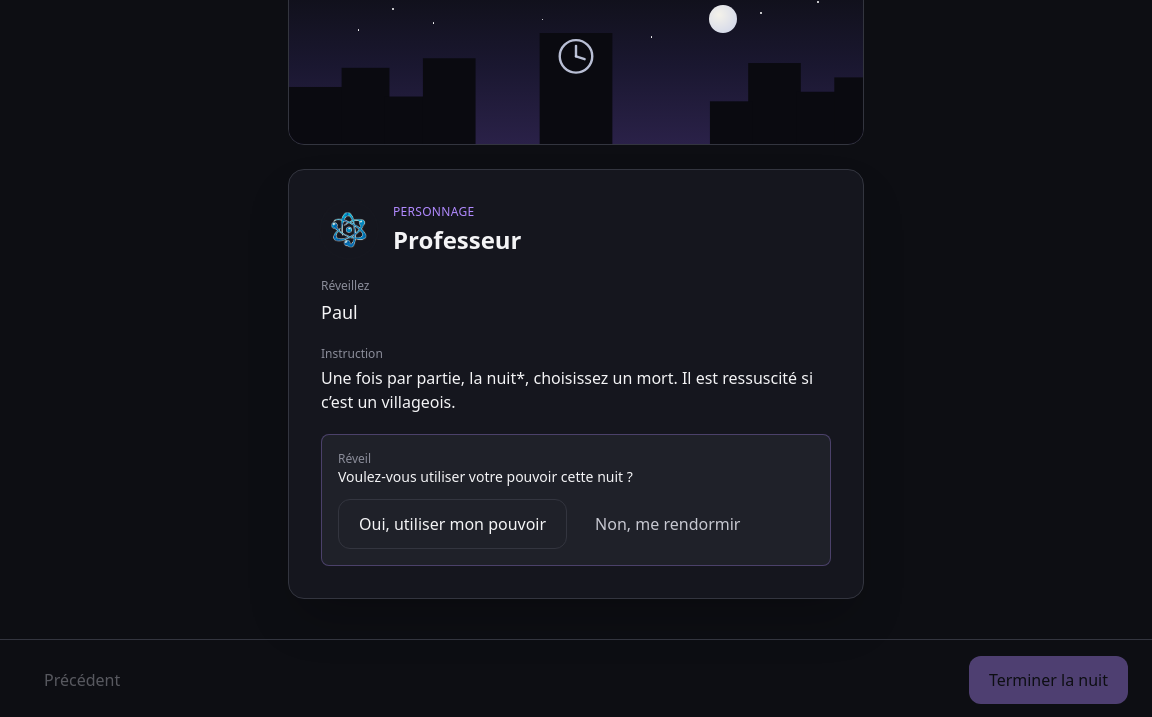
Test case: NightAssistantScreen — Bad Moon Rising : Professeur › ne redemande plus de réveiller le Professeur une fois son pouvoir unique utilisé
This screenshot has width=1152, height=717.
(page scrolled)
Click the button "Oui, utiliser mon pouvoir".
click(453, 524)  # box left=338, top=499, right=567, bottom=549
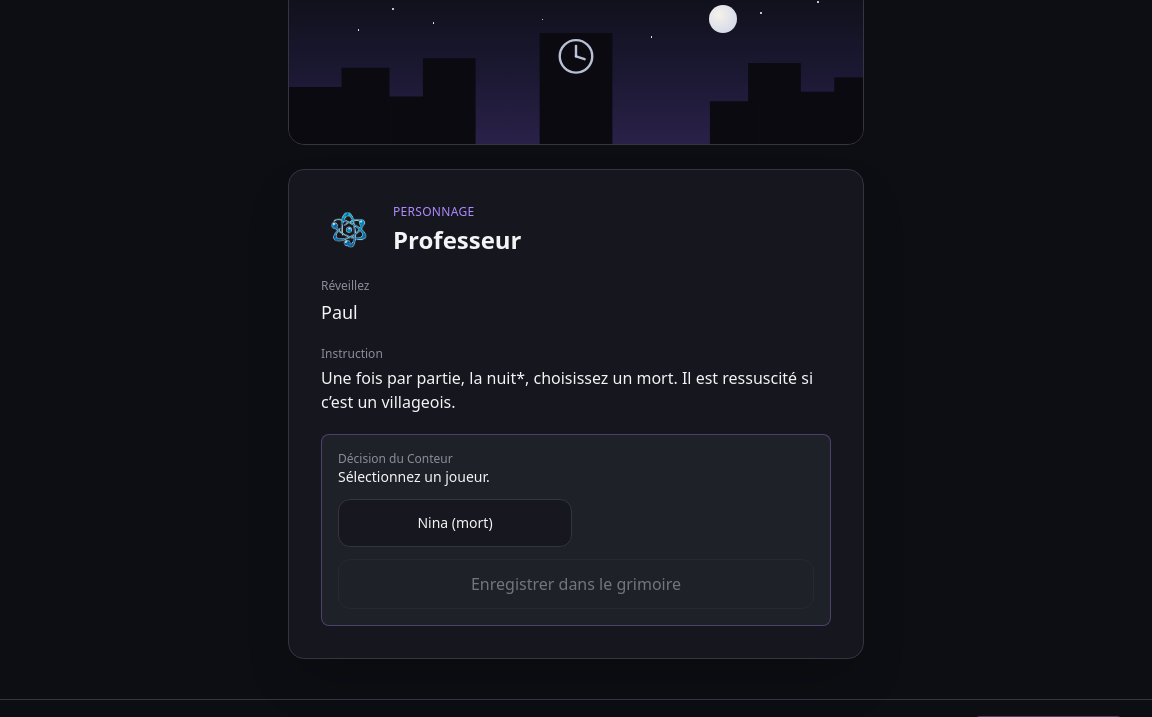
Click the button "Nina (mort)".
click(455, 523)  # box left=338, top=499, right=572, bottom=547
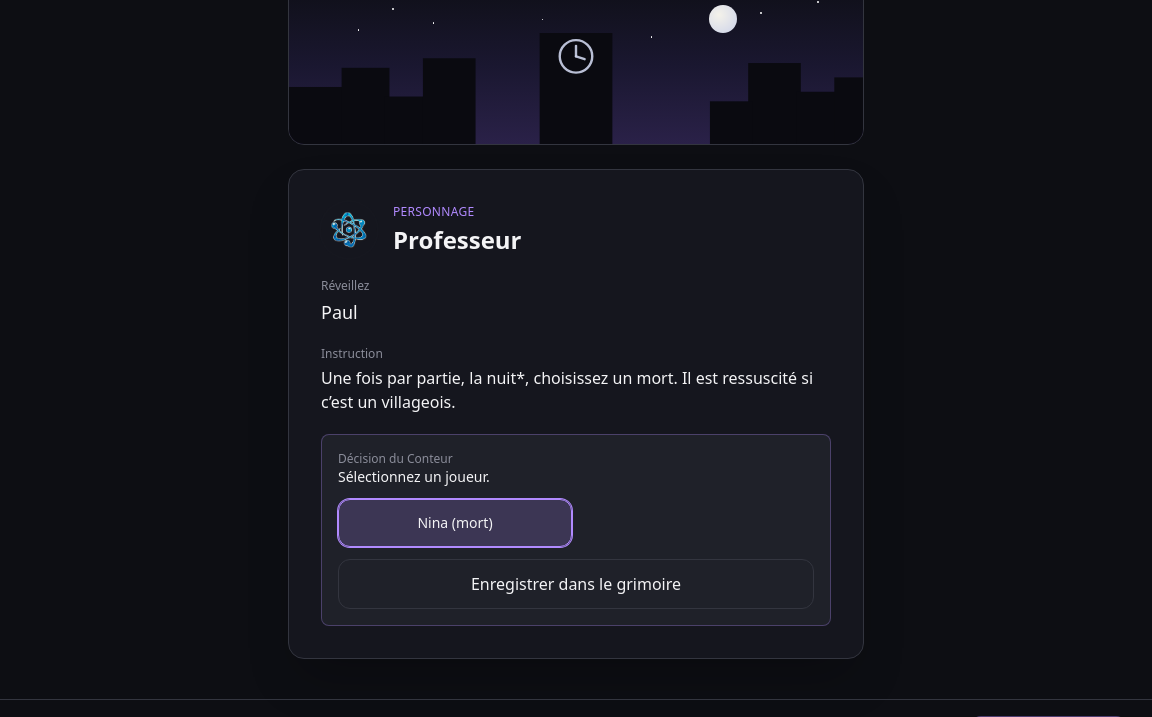
Click the button "Enregistrer dans le grimoire".
click(576, 584)  # box left=338, top=559, right=814, bottom=609
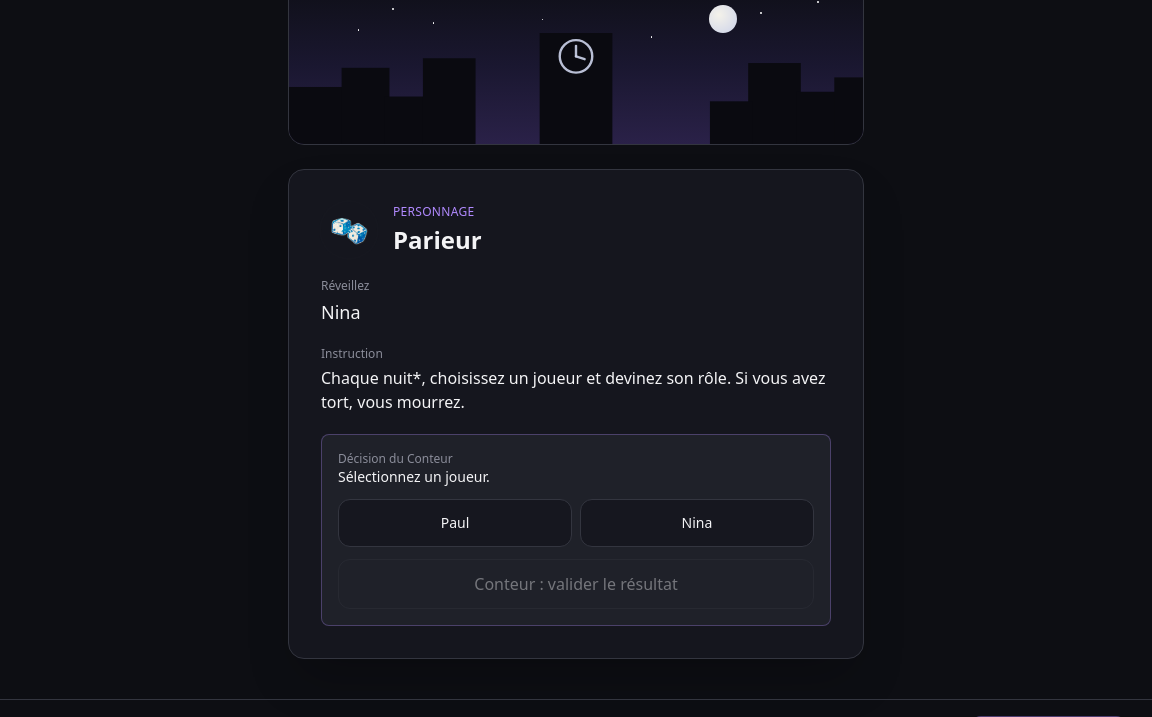
Result: the heading "Professeur" is gone
